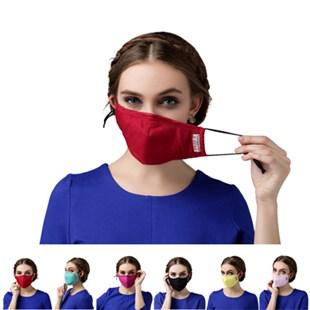OK: (221, 268, 242, 289), (272, 268, 294, 288), (168, 270, 190, 290), (64, 266, 83, 285), (119, 268, 137, 288), (17, 268, 34, 288)
WRONG: (116, 81, 210, 164)
